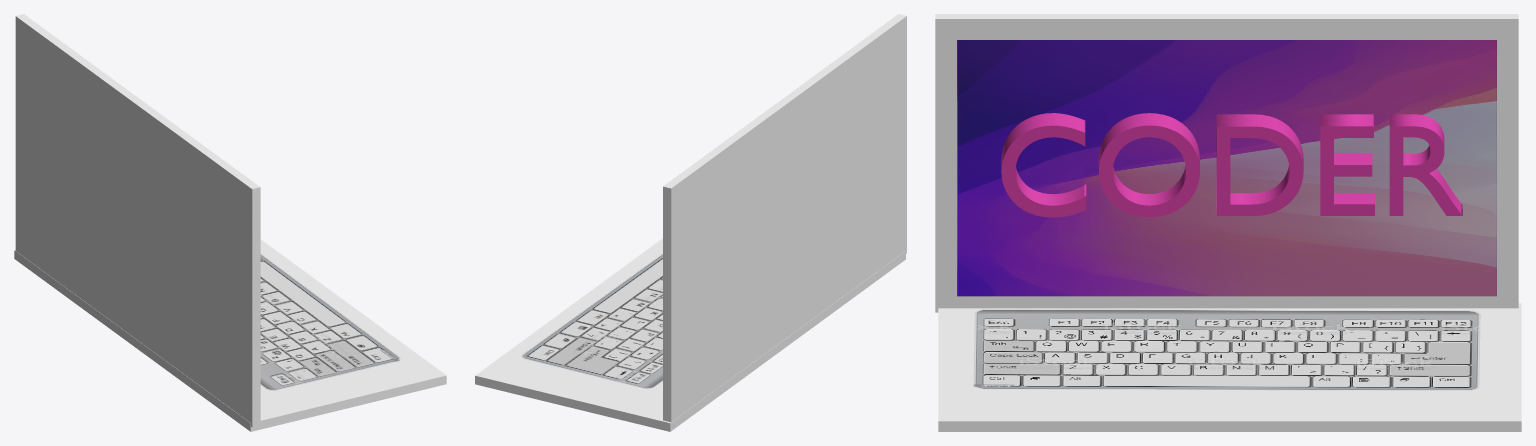
Rendered from MAC.glb.
3 renders of one model, left to right at view 1: azimuth 30°, elevation 25°; view 2: azimuth 150°, elevation 25°; view 3: azimuth 270°, elevation 25°, orthographic. The views are drawn at different scales.
Parts seen in each view (by area): view 1: Cube, Cube.001, Plane.001; view 2: Cube, Cube.001, Plane.001; view 3: Plane, Plane.001, Cube, Cube.001, Text.
Boxes of the visible parts, bbox=[...] form: Cube: bbox=[15, 14, 260, 427]; Cube.001: bbox=[14, 239, 446, 431]; Plane.001: bbox=[260, 254, 403, 391]; Cube: bbox=[663, 14, 906, 422]; Cube.001: bbox=[475, 238, 905, 431]; Plane.001: bbox=[518, 253, 662, 390]; Plane: bbox=[957, 40, 1496, 296]; Plane.001: bbox=[973, 309, 1480, 390]; Cube: bbox=[935, 14, 1518, 312]; Cube.001: bbox=[938, 303, 1521, 431]; Text: bbox=[1001, 113, 1462, 217].
Size of the model in its own units: 1.48 by 1.75 by 3.1.
5 materials, 2 textured.
